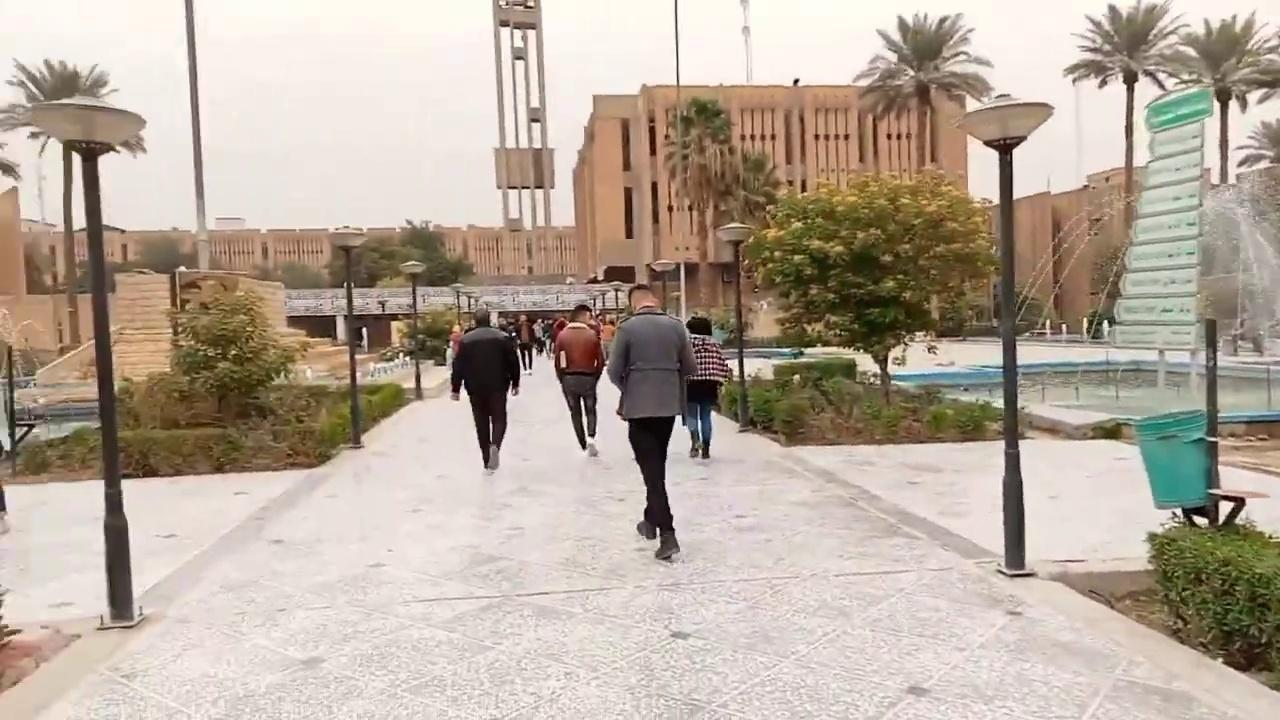fountain: (887, 84, 1278, 432), (1106, 85, 1214, 349), (1195, 168, 1278, 355)
person: (606, 284, 699, 559), (449, 307, 520, 471), (553, 303, 605, 453), (683, 315, 732, 459)
tree: (0, 57, 149, 627), (741, 164, 1001, 405), (851, 10, 995, 335), (1, 56, 119, 353), (1062, 0, 1190, 234), (659, 94, 787, 321), (851, 9, 994, 172), (1158, 9, 1277, 184), (160, 283, 300, 418), (659, 94, 746, 236), (1231, 117, 1279, 351), (357, 217, 475, 288), (734, 149, 786, 227), (1234, 23, 1279, 107)
